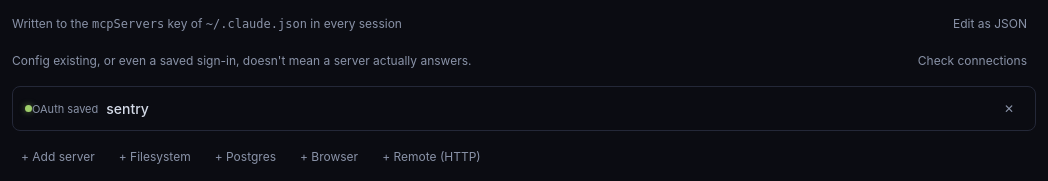
Test: checking MCP connections for real › a real failed check overrides a saved OAuth credential saying otherwise
Expected: the text "OAuth saved" is shown, [32,102,98,116]
Click the button "Check connections". click: x=972, y=60
box: [909,49,1036,72]
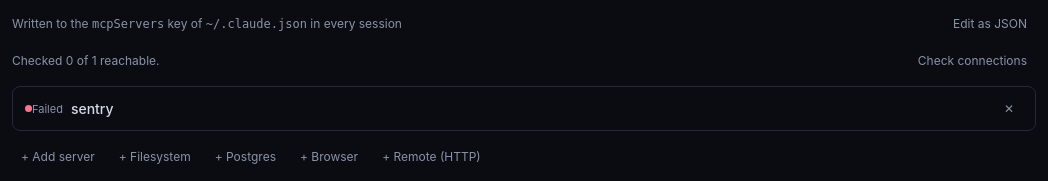
Expected: the text "Failed" is shown, [32,102,63,116]
Expected: the heading "OAuth saved" is gone
